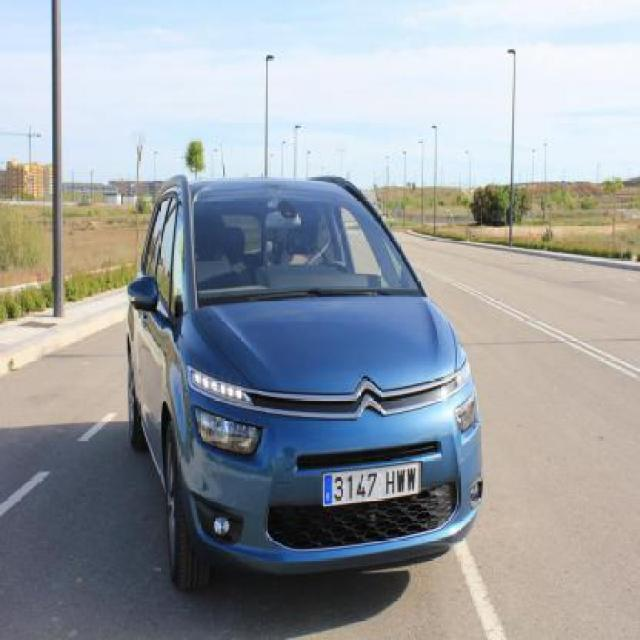License-Plates: (316, 458, 425, 513)
